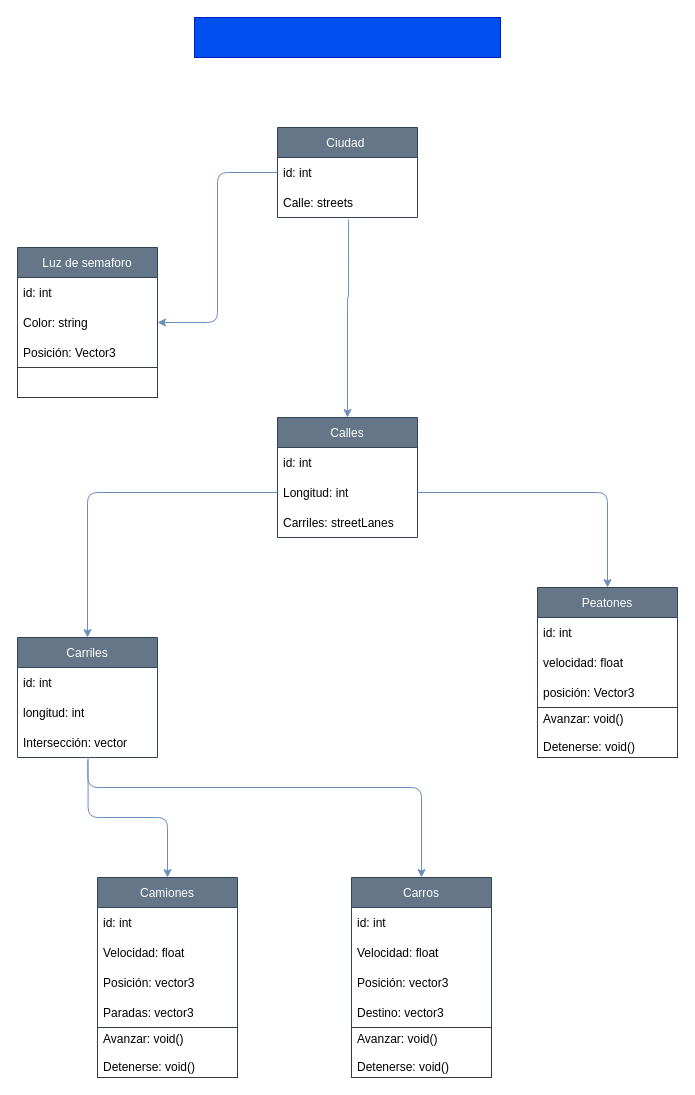
Some shapes in this 695 by 1095 pixel diagram are drawn without their labels. Each missing label, with the centre of its shape:
"Agentes involucrados - Diagrama de clases" goes at pixel 347 37.
"CambiarColor. Void()" goes at pixel 87 382.
